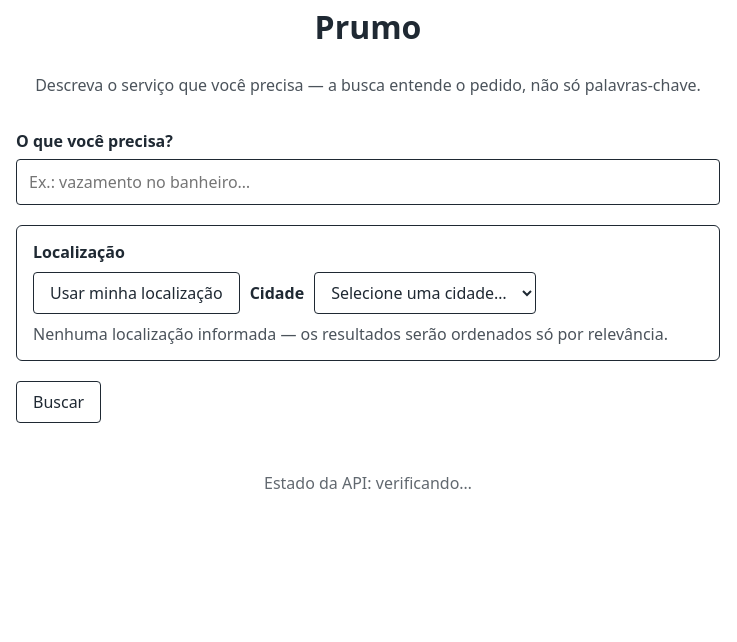
Test: App — tela de busca › lista vazia por CORTE (totalCandidates > 0, results: []) — distinta de "ninguém no raio"
In the field labelled "O que você precisa?": (368, 182) [16,159,720,205], type "vazamento no banheiro"
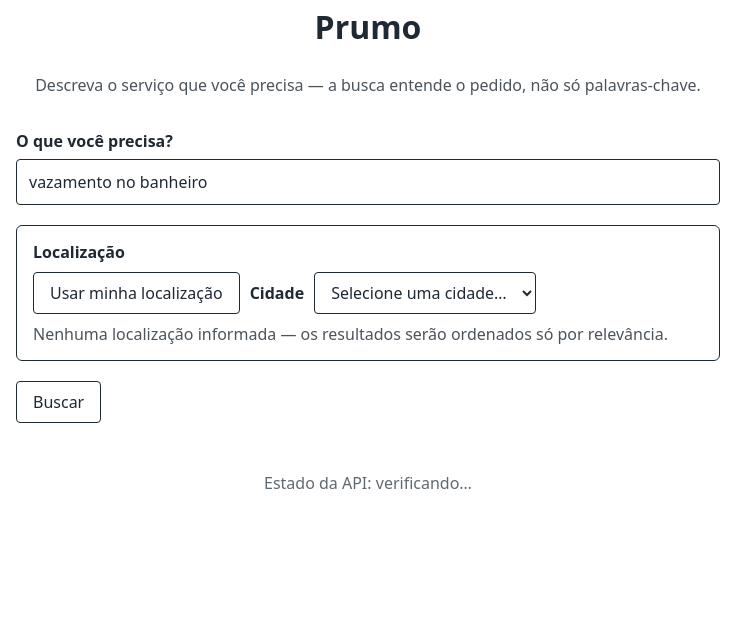
Click the button "Buscar": (59, 402) [16,381,101,423]
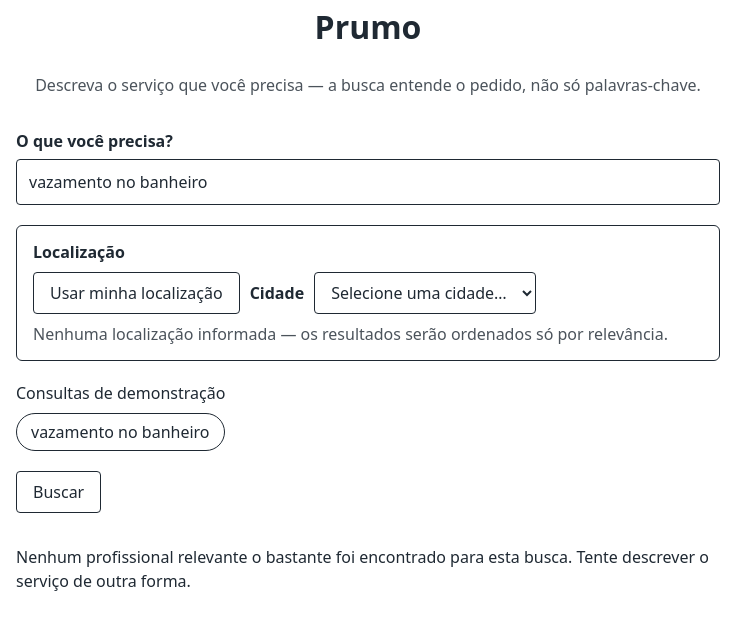
Expected: the text "Nenhum profissional relevante o bastante" is shown, [16,546,709,592]
